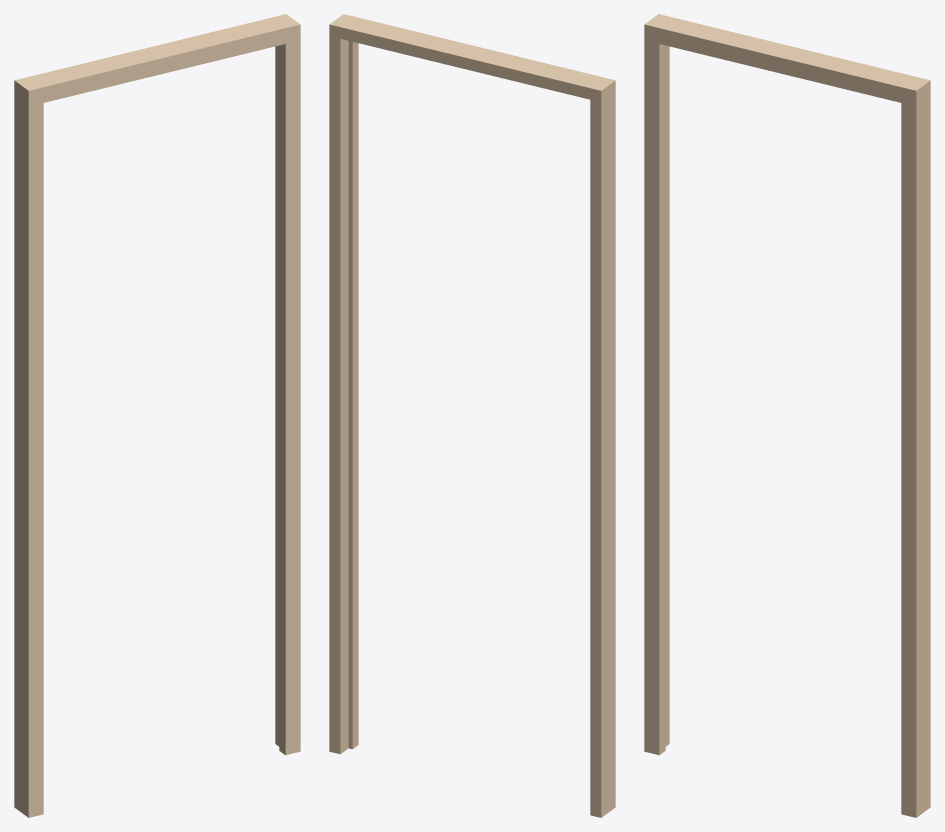
3 renders of one model, left to right at view 1: azimuth 30°, elevation 25°; view 2: azimuth 150°, elevation 25°; view 3: azimuth 330°, elevation 25°, orthographic.
Parts seen in each view (by area): view 1: 29ymKX5zH5jw1h_hkHvADg_h315971; view 2: 29ymKX5zH5jw1h_hkHvADg_h315971; view 3: 29ymKX5zH5jw1h_hkHvADg_h315971.
Boxes of the visible parts, <box> form: 29ymKX5zH5jw1h_hkHvADg_h315971: <box>14,14,300,817</box>; 29ymKX5zH5jw1h_hkHvADg_h315971: <box>329,14,615,817</box>; 29ymKX5zH5jw1h_hkHvADg_h315971: <box>644,14,930,817</box>.
Bounding box in the file's own units: 0.81 × 2.07 × 0.074.
